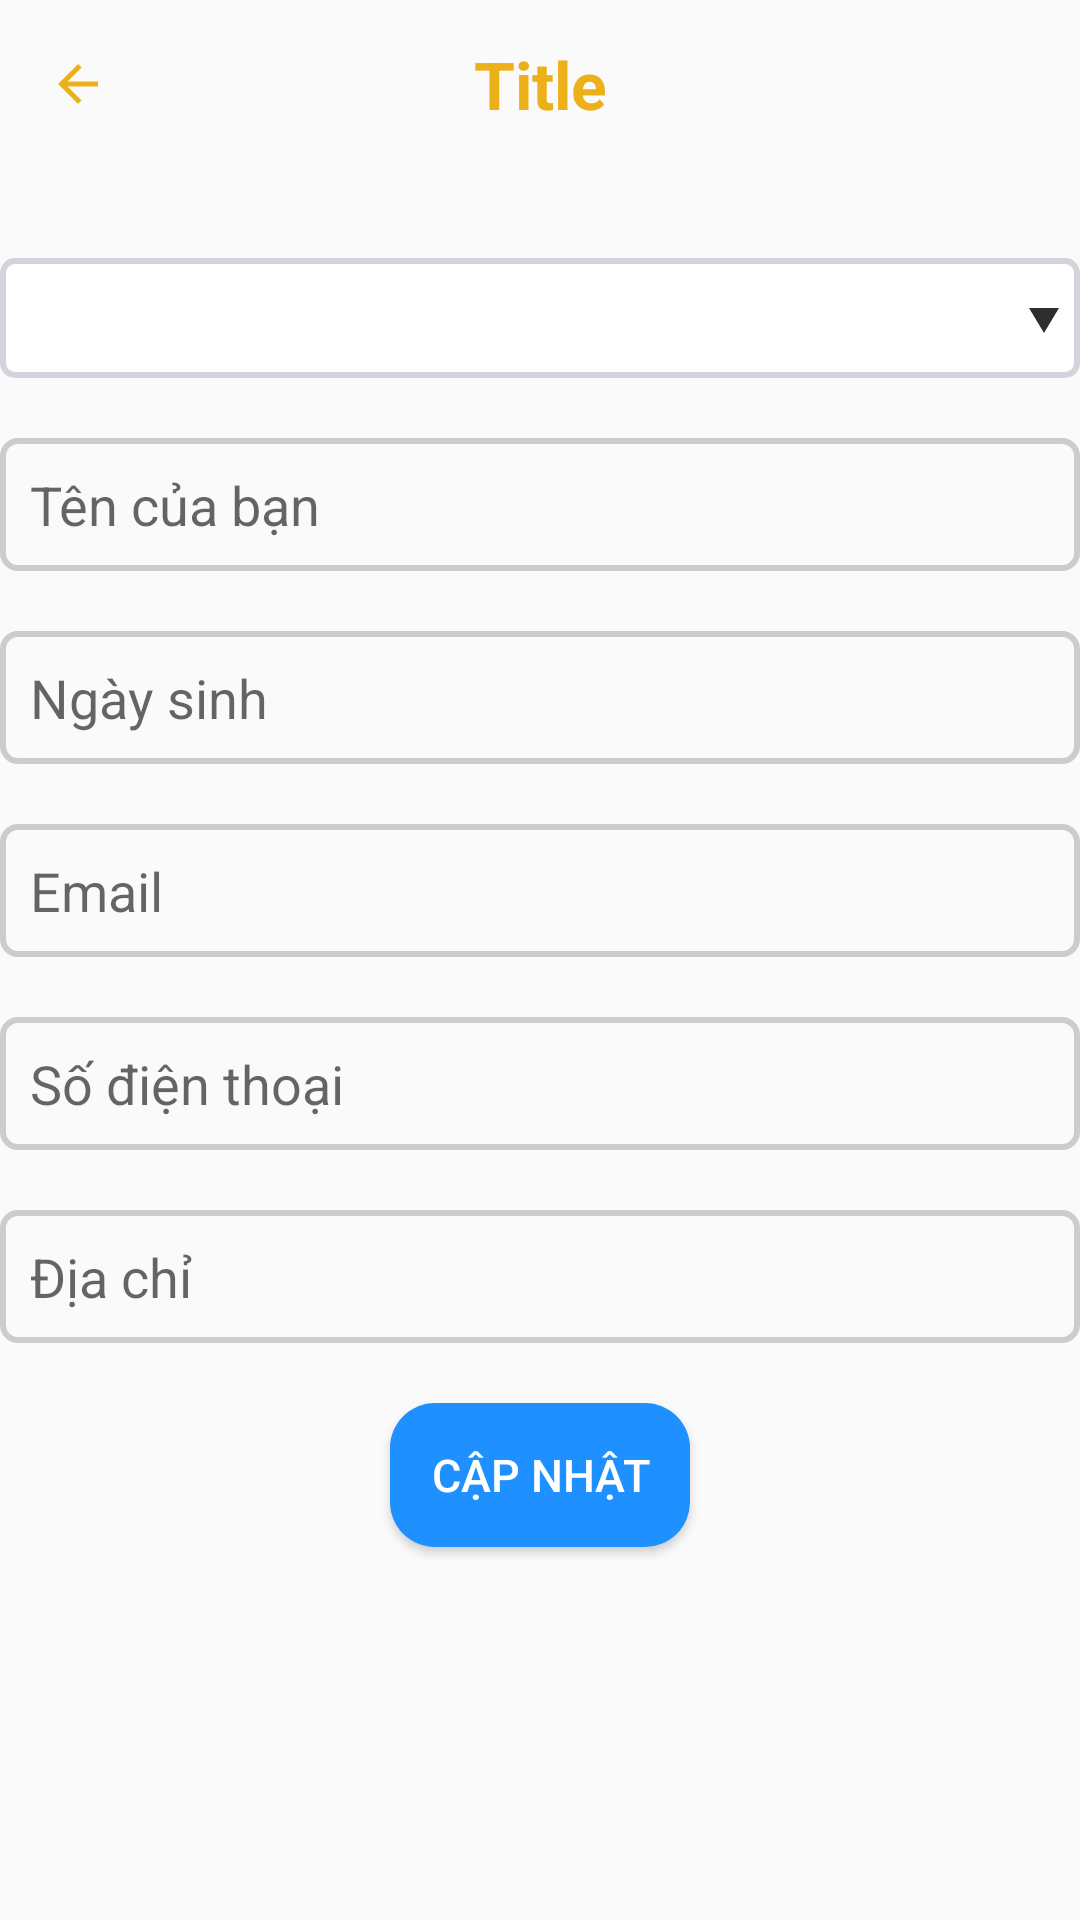

Point at icon controls on the screen. Image size 1080px x 1920px, points as (x,y).
back: (78,84)
